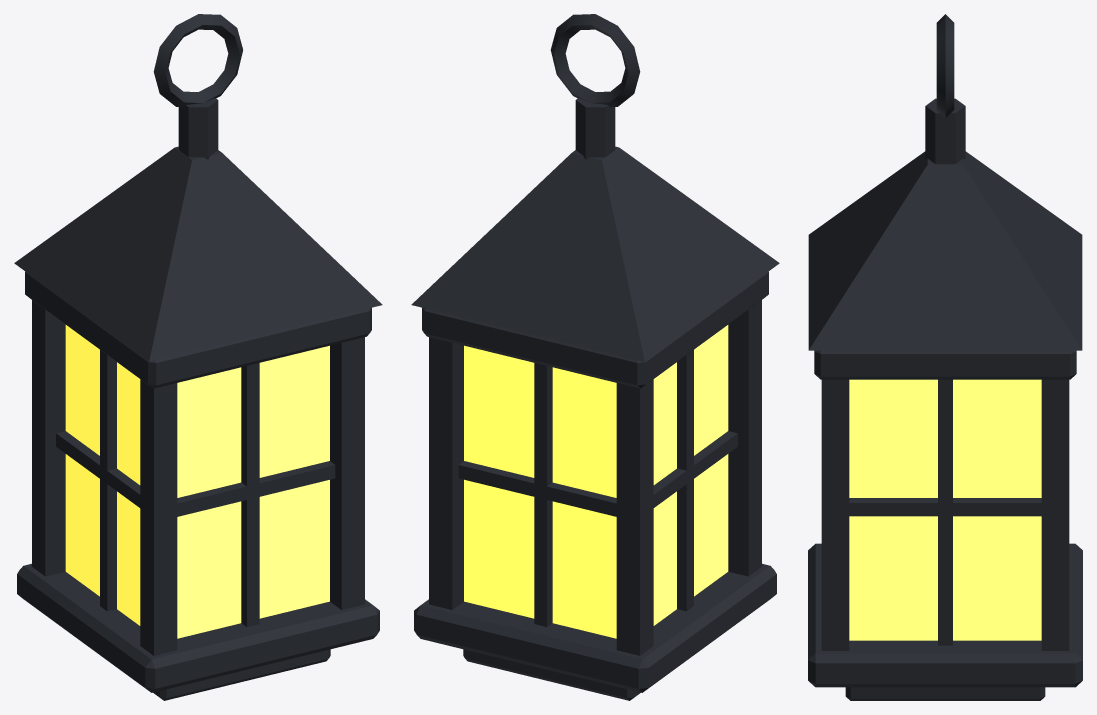
Rendered from lantern.glb.
3 views of the same model, side by side, from view 1: azimuth 30°, elevation 25°; view 2: azimuth 150°, elevation 25°; view 3: azimuth 270°, elevation 25° (orthographic).
Parts seen in each view (by area): view 1: isl_lantern; view 2: isl_lantern; view 3: isl_lantern.
Boxes of the visible parts, box(x1,y1,x2,y2) form: isl_lantern: box(14, 14, 382, 700); isl_lantern: box(411, 14, 779, 700); isl_lantern: box(808, 14, 1082, 700).
Bounding box in the file's own units: 0.22 × 0.567 × 0.22.
